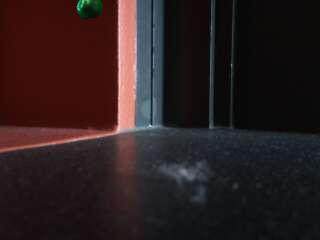Lime: (74, 0, 105, 24)
